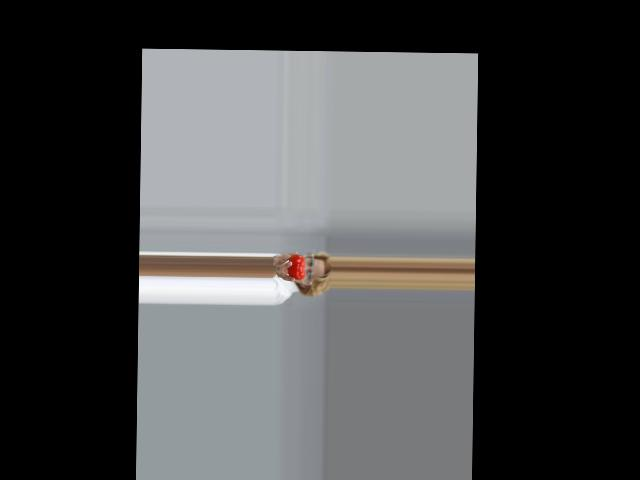tomato: (287, 255, 304, 280)
